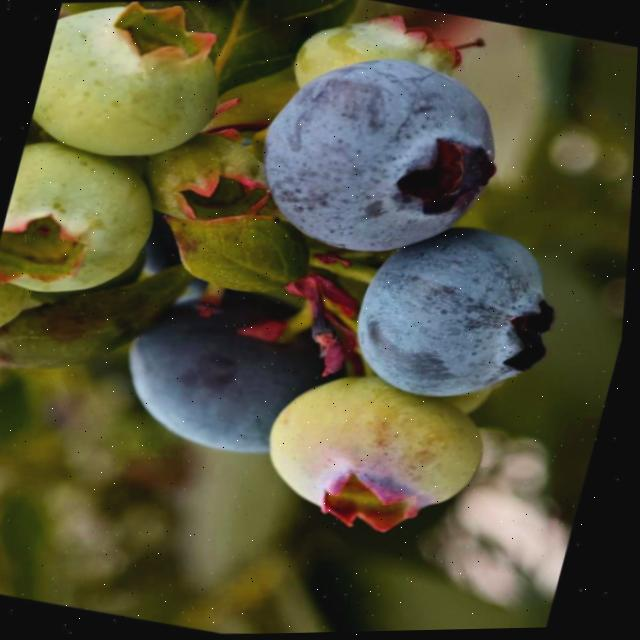RipeBlueBerry: (242, 32, 524, 280), (340, 203, 580, 424), (109, 268, 353, 472)
UnripeBlueBerry: (250, 358, 506, 556), (26, 0, 245, 176), (0, 132, 171, 312)
